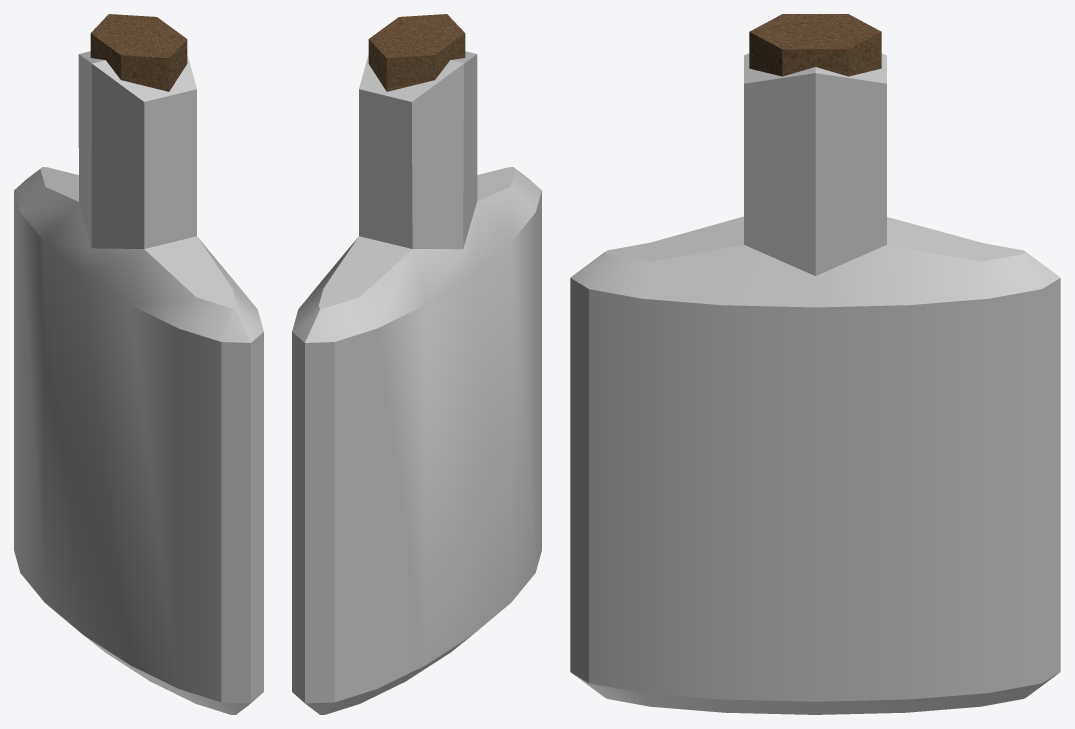
The model's file is TriggerSappy.fbx.
3 renders of one model, left to right at view 1: azimuth 30°, elevation 25°; view 2: azimuth 150°, elevation 25°; view 3: azimuth 270°, elevation 25°, orthographic. The views are drawn at different scales.
Visible parts, largest first — view 1: TriggerSappyBody, TriggerSappyCORK; view 2: TriggerSappyBody, TriggerSappyCORK; view 3: TriggerSappyBody, TriggerSappyCORK.
Part boxes in pixels (x1,y1,x2,y2): TriggerSappyBody: [14, 51, 263, 714]; TriggerSappyCORK: [90, 14, 187, 91]; TriggerSappyBody: [292, 51, 541, 714]; TriggerSappyCORK: [368, 14, 465, 91]; TriggerSappyBody: [570, 53, 1060, 714]; TriggerSappyCORK: [749, 14, 881, 76].
Bounding box in the file's own units: 57.43 × 299 × 200.
